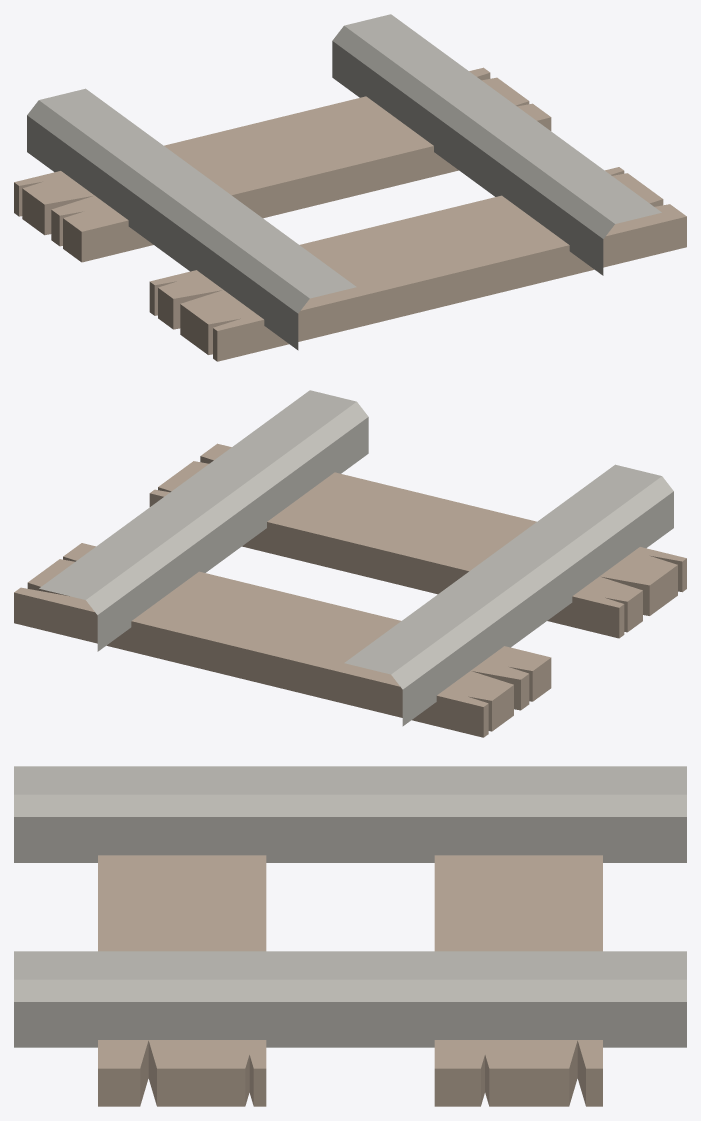
Rendered from Cave_Prop_Railway_Straight_3.glb.
The picture shows the model from 3 angles, top to bottom: view 1: azimuth 30°, elevation 25°; view 2: azimuth 150°, elevation 25°; view 3: azimuth 270°, elevation 25°; orthographic projection. The views are drawn at different scales.
Parts seen in each view (by area): view 1: Cave_Prop_Railway_Straight_3; view 2: Cave_Prop_Railway_Straight_3; view 3: Cave_Prop_Railway_Straight_3.
Part boxes in pixels (left/top/right/bottom): Cave_Prop_Railway_Straight_3: left=14, top=14, right=686, bottom=361; Cave_Prop_Railway_Straight_3: left=14, top=390, right=686, bottom=737; Cave_Prop_Railway_Straight_3: left=14, top=766, right=686, bottom=1106.
Bounding box in the file's own units: 1 × 0.15 × 1.
